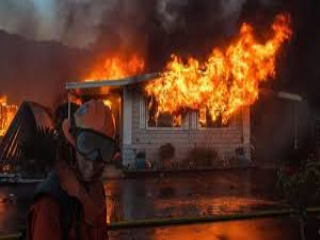fire: (147, 28, 293, 126), (64, 45, 141, 85)
